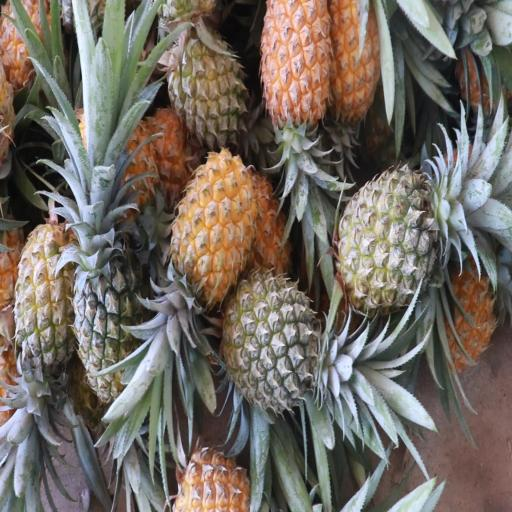------------------------------: (12, 213, 77, 452)
Pineapple - v8 v1: (154, 157, 259, 344), (258, 0, 330, 213), (329, 0, 384, 163)
